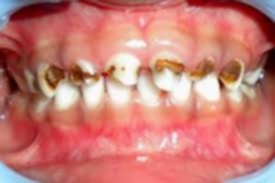Caries: (149, 58, 242, 86), (42, 63, 120, 92)
